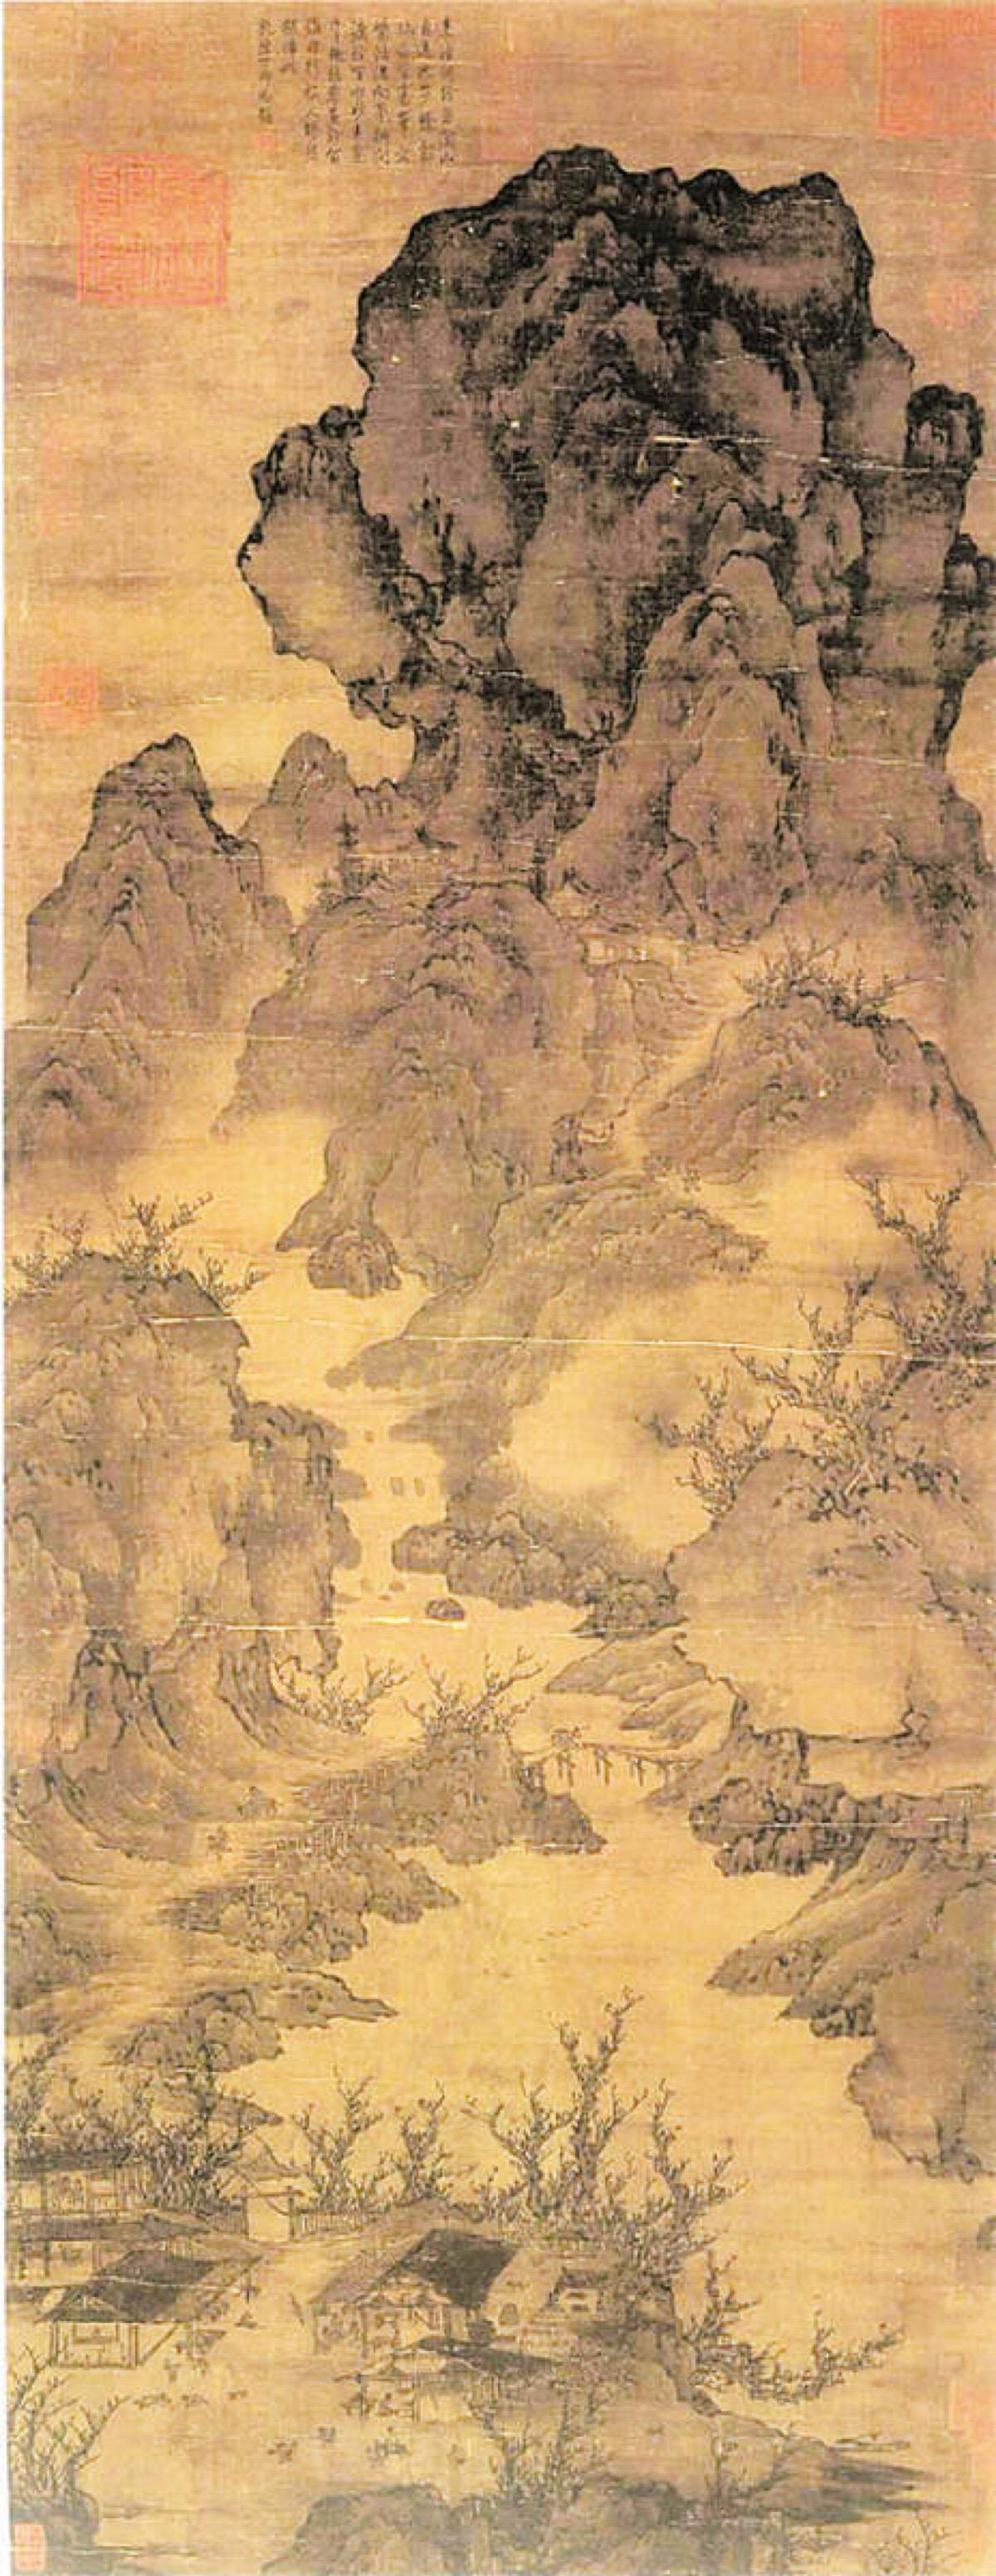house: (301, 2219, 641, 2415), (2, 2141, 247, 2385)
mountain: (235, 133, 996, 923), (636, 1364, 996, 2155), (2, 1265, 345, 1810), (256, 849, 684, 1276), (426, 1152, 748, 1607), (25, 734, 283, 1158), (618, 989, 996, 1166)
tree: (629, 1188, 996, 1526), (289, 2024, 758, 2241), (677, 2234, 876, 2412), (25, 1188, 238, 1298)
